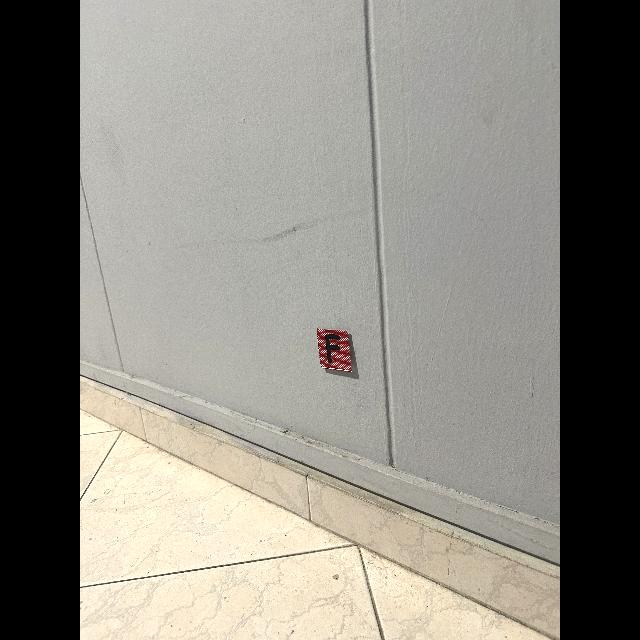F: (325, 335, 340, 363)
